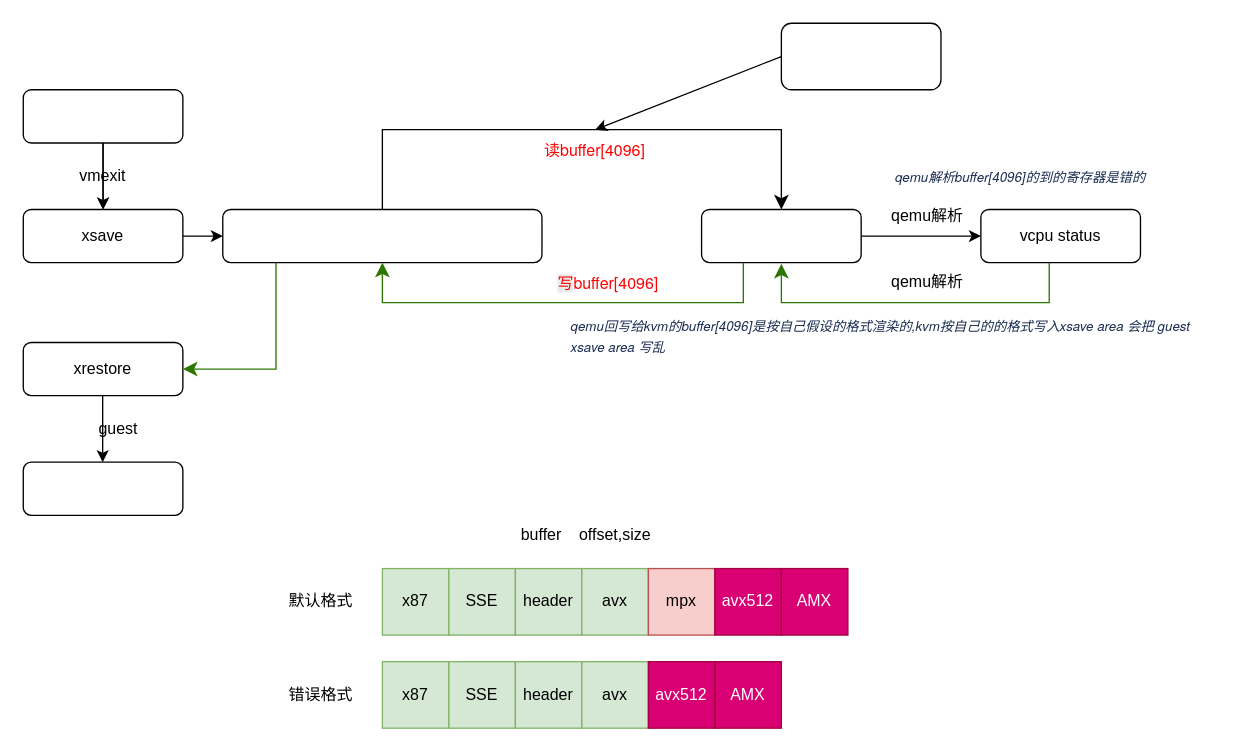
Image size: 1244x751. Some labels were removed from this diagram. Here are the shapes that lost their labels. From the top down, the centre of each, then its label:
At (860,56): "hmp info cpu hmp info registers".
At (102,115): "guest vcpu".
At (381,235): "xsave area内存".
At (780,235): "qemu".
At (102,488): "host pcpu".
